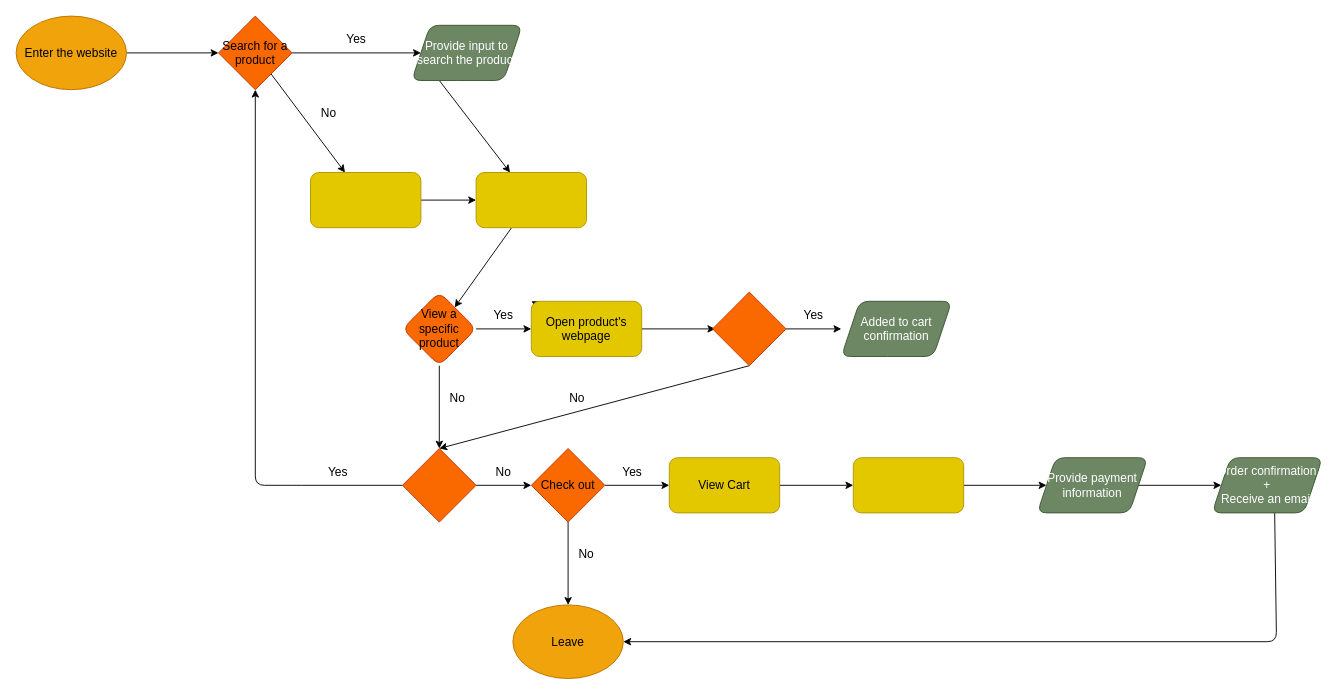
Some shapes in this 1339 by 695 pixel diagram are drawn without their labels. The centre of each missing label's shape, as x and y in pixels:
"Add to cart" goes at point 749,328.
"Begin looking over products" goes at point 530,200.
"Continue shopping" goes at point 439,485.
"Explore products on home page" goes at point 365,200.
"View Payment" goes at point 908,485.
